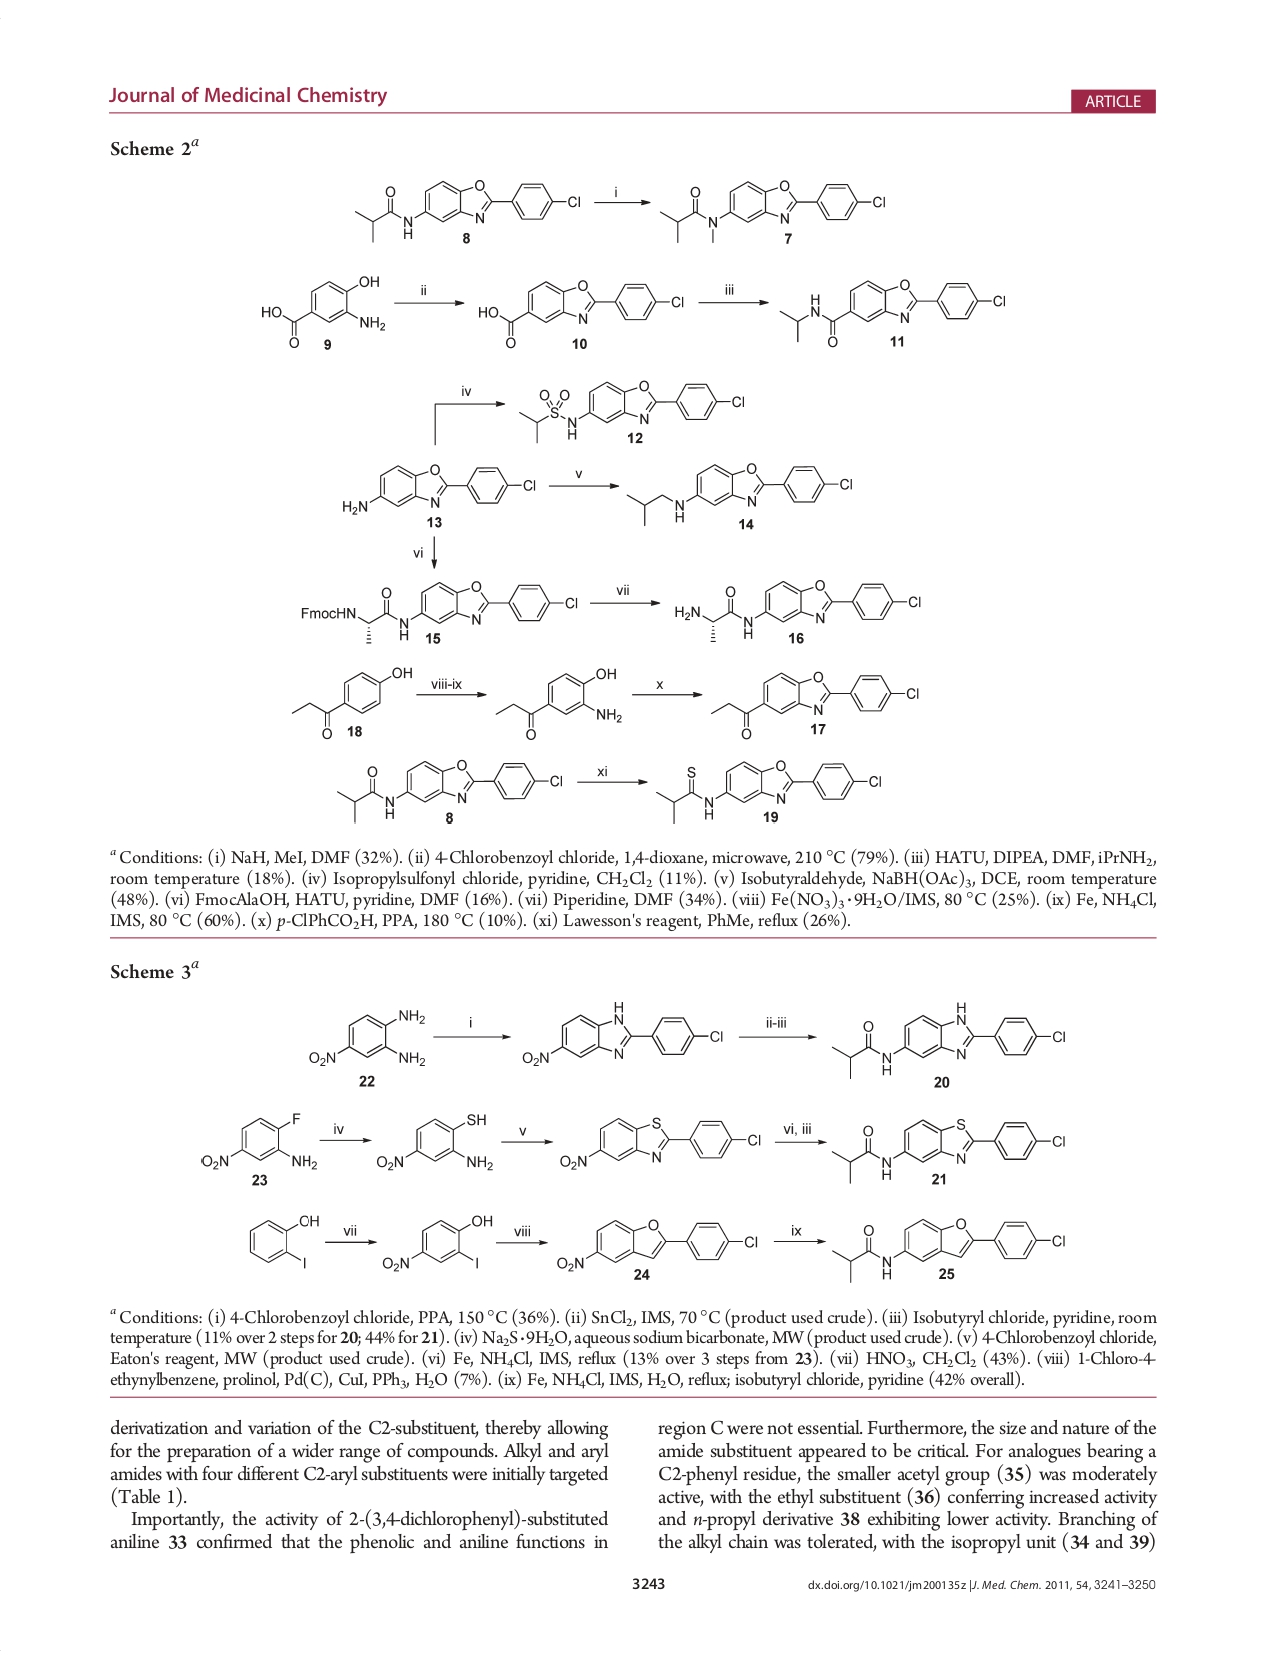exist_molecular: (295, 576, 580, 650), (828, 997, 1067, 1083), (670, 573, 923, 645), (828, 1114, 1067, 1188), (328, 755, 565, 829), (775, 277, 1008, 350), (830, 1216, 1067, 1287), (621, 457, 856, 529), (707, 665, 923, 742), (654, 757, 883, 829), (657, 177, 890, 246), (517, 376, 747, 446), (354, 176, 581, 243), (473, 279, 686, 348), (523, 995, 723, 1067), (556, 1110, 762, 1177), (553, 1210, 759, 1273), (340, 461, 539, 517), (261, 269, 390, 351), (287, 664, 416, 743), (491, 664, 625, 739), (307, 1004, 430, 1073), (199, 1105, 320, 1174), (372, 1110, 497, 1177), (382, 1206, 496, 1275), (243, 1208, 319, 1271)
